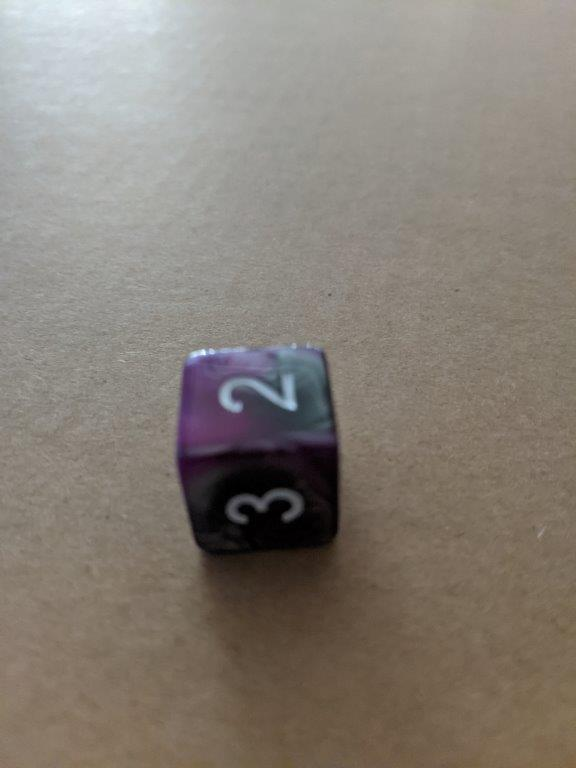d6-2: (172, 343, 343, 555)
